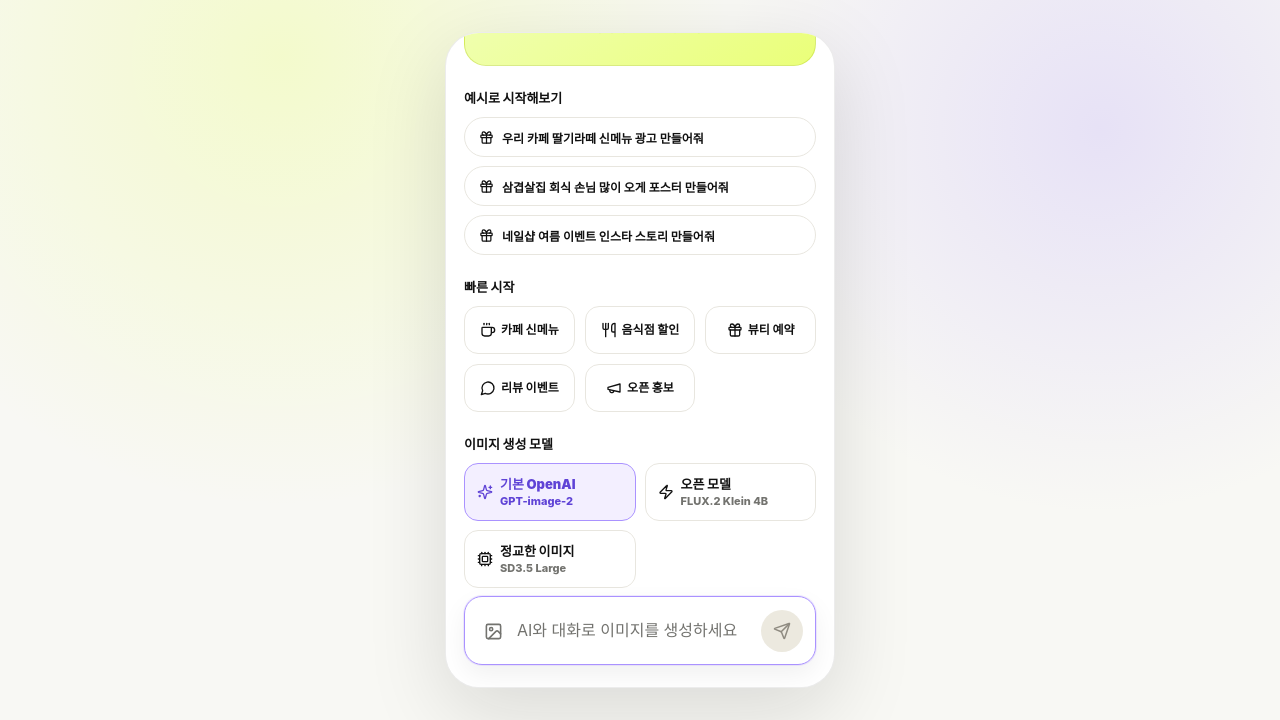
Test: ChatGenerateClient › keeps completed queued initial graph jobs inside the chat brief flow
(page scrolled)
Click the text "FLUX.2 Klein 4B": {"x": 724, "y": 501} [680,495,768,508]
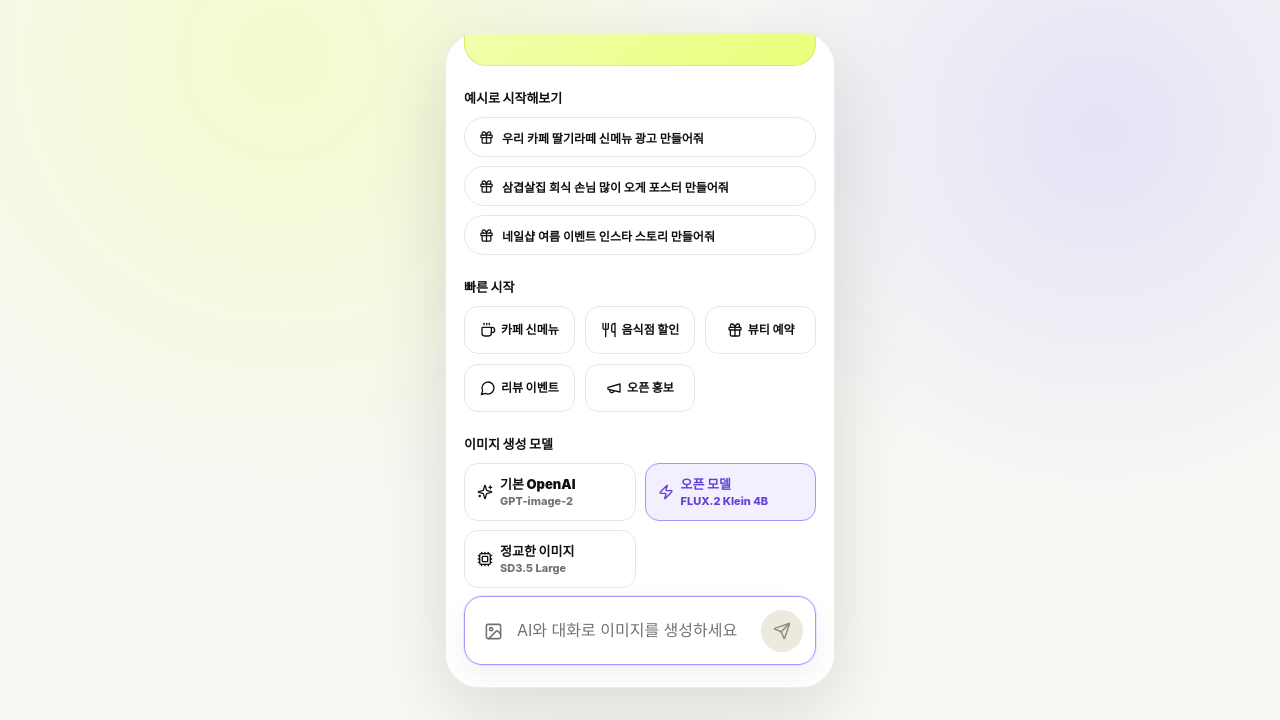
In the text box named "광고 요청 입력": {"x": 635, "y": 630} [517,609,753,652], type "네일샵 여름 이벤트 인스타 스토리 만들어줘"
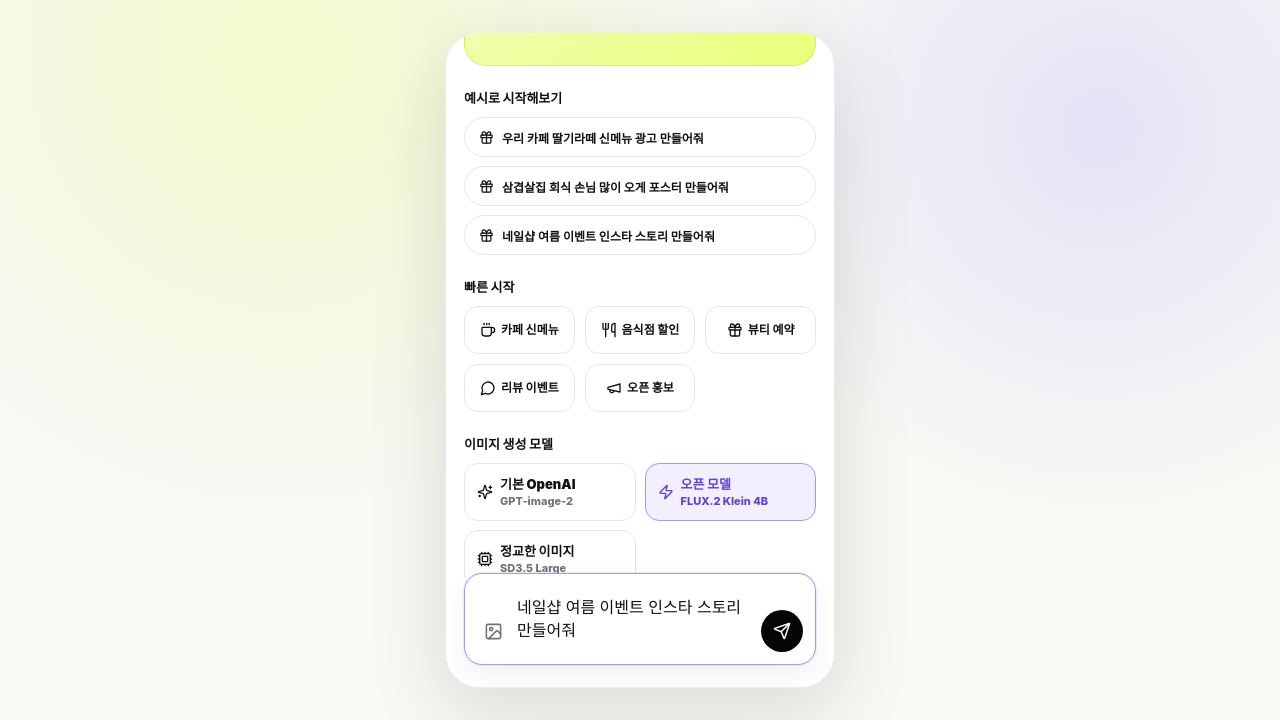
Click the button named "요청 보내기": {"x": 782, "y": 631} [761,610,803,652]
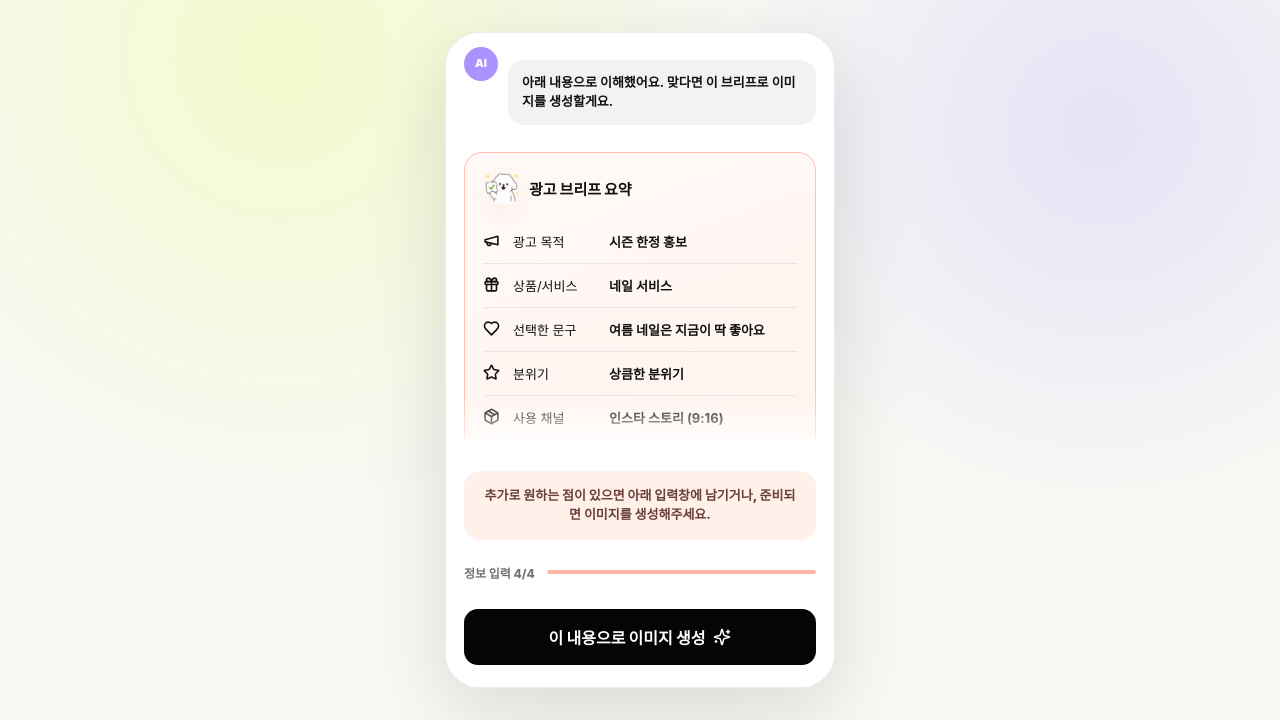
Check: the heading "광고 브리프 요약" is shown, box [529,178,632,199]
Check: the text "네일 서비스" is shown, box [609,278,672,294]
Check: the text "시즌 한정 홍보" is shown, box [609,234,687,250]
